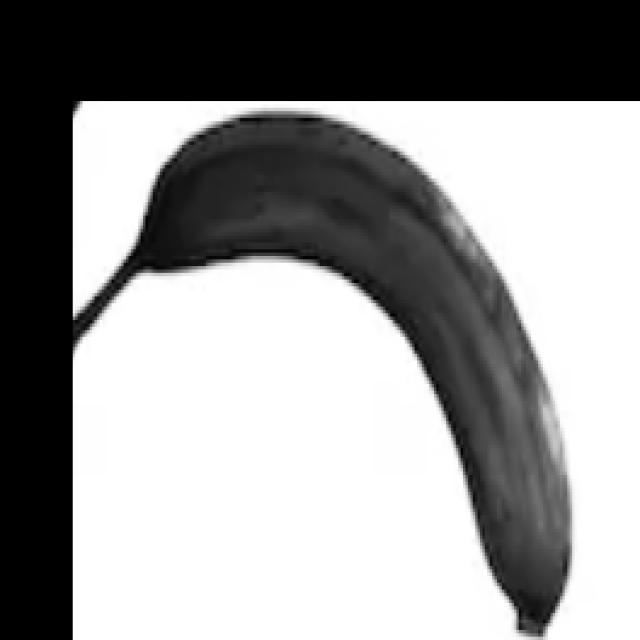Rotten: (85, 94, 582, 640)
